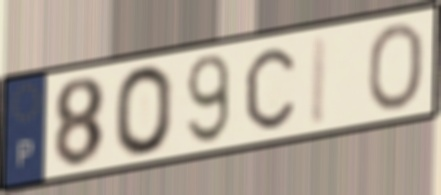8: (51, 73, 109, 170)
9: (182, 52, 233, 147)
C: (242, 44, 298, 132)
I: (306, 31, 332, 131)
O: (111, 62, 176, 159), (365, 20, 427, 115)
